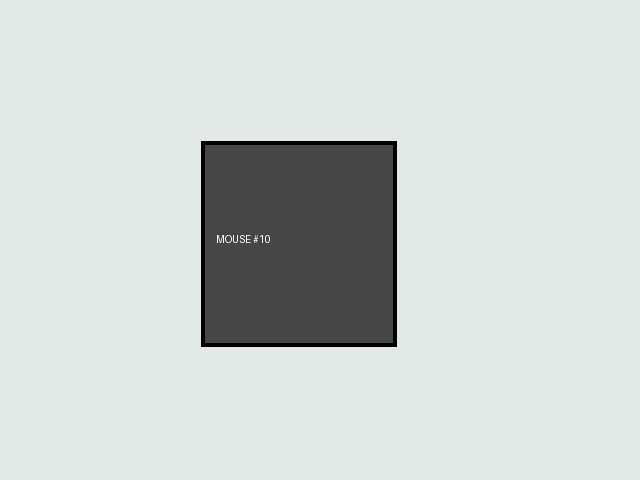mouse: (201, 141, 396, 346)
